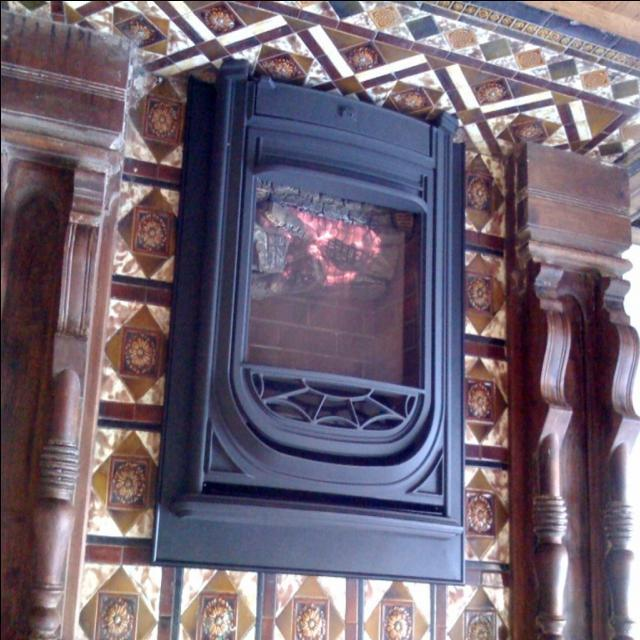Fire: (294, 205, 386, 294)
